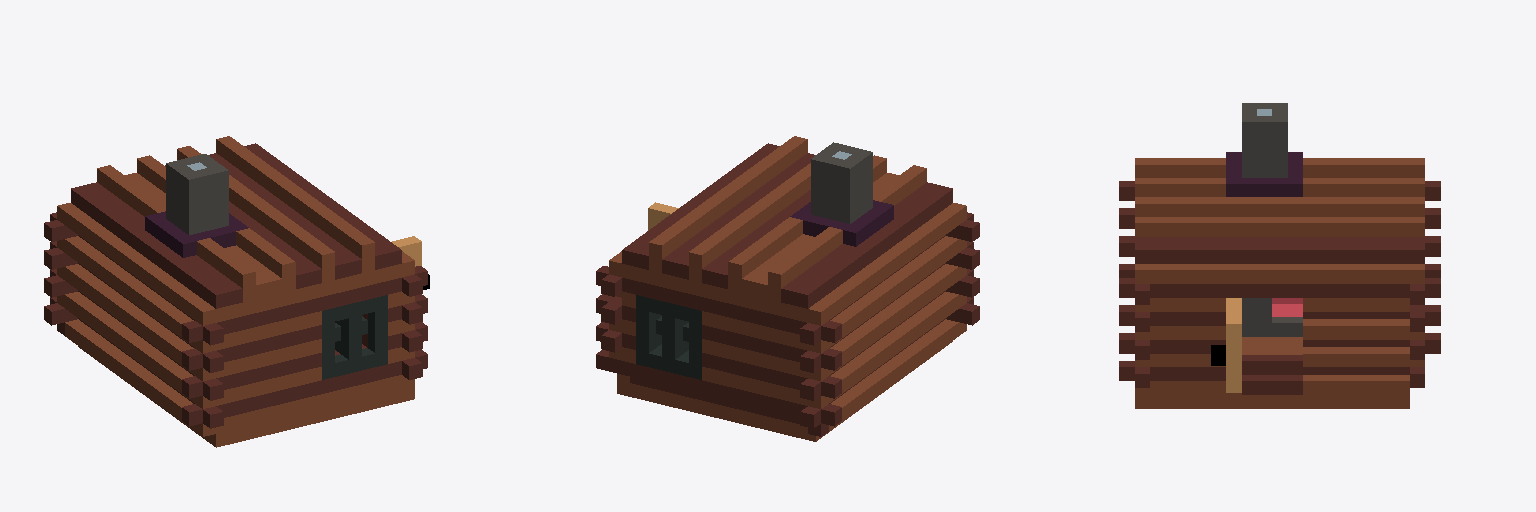
The picture shows the model from 3 angles: view 1: azimuth 30°, elevation 25°; view 2: azimuth 150°, elevation 25°; view 3: azimuth 270°, elevation 25°; orthographic projection.
Parts seen in each view (by area): view 1: object 1; view 2: object 1; view 3: object 1.
Part boxes in pixels (left/top/right/bottom): object 1: left=44, top=136, right=429, bottom=447; object 1: left=596, top=136, right=979, bottom=441; object 1: left=1119, top=103, right=1440, bottom=408.
Size of the model in its own units: 2.1 by 1.6 by 2.1.
Materials: 1 (1 with a texture image).